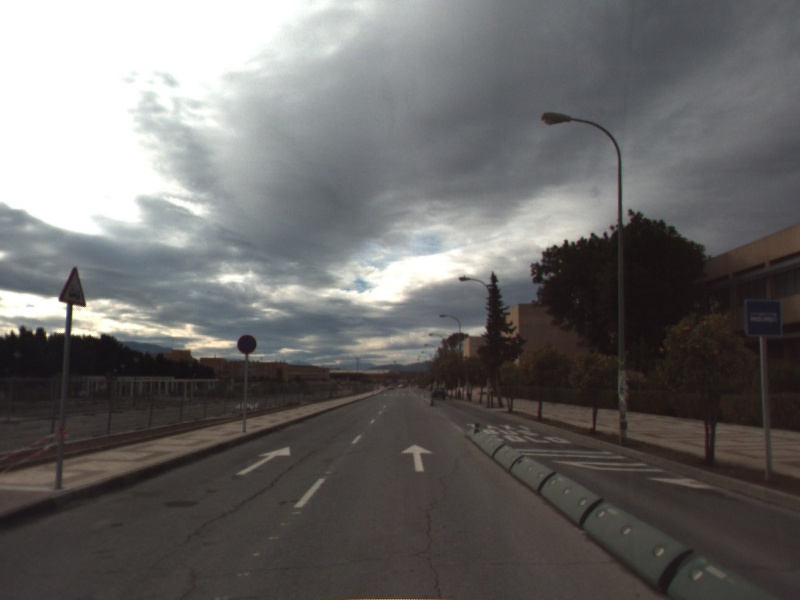STRAIGHT: (233, 444, 293, 477), (399, 442, 435, 474)
